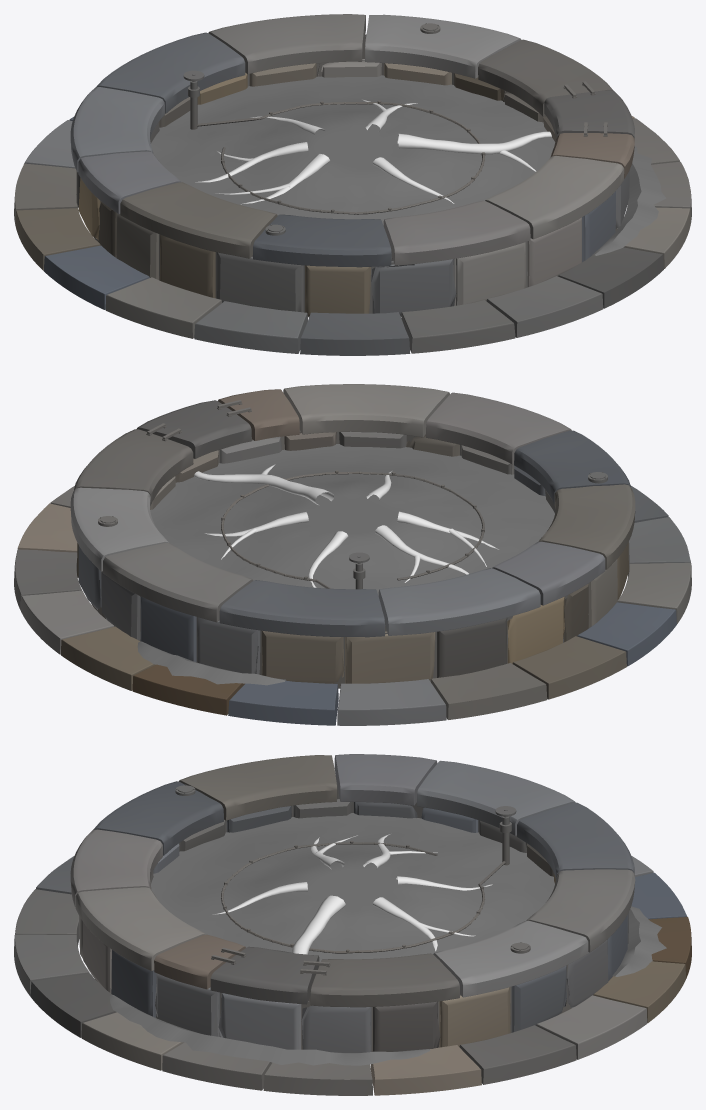
File: TreeBed_Birch4b_LOD0.glb
The picture shows the model from 3 angles, top to bottom: view 1: azimuth 30°, elevation 25°; view 2: azimuth 150°, elevation 25°; view 3: azimuth 270°, elevation 25°; orthographic projection.
Parts seen in each view (by area): view 1: TB_Birch4b_Ring_LOD0, TB_Birch4b_Apron_LOD0, TB_Birch4b_Soil_LOD0, TB_Birch4b_Roots_LOD0, TB_Birch4b_Metal_LOD0, TB_Birch4b_Sand_LOD0; view 2: TB_Birch4b_Ring_LOD0, TB_Birch4b_Apron_LOD0, TB_Birch4b_Soil_LOD0, TB_Birch4b_Roots_LOD0, TB_Birch4b_Metal_LOD0, TB_Birch4b_Sand_LOD0; view 3: TB_Birch4b_Ring_LOD0, TB_Birch4b_Soil_LOD0, TB_Birch4b_Apron_LOD0, TB_Birch4b_Sand_LOD0, TB_Birch4b_Roots_LOD0, TB_Birch4b_Metal_LOD0.
Part boxes in pixels (x1=…): TB_Birch4b_Ring_LOD0: x1=70, y1=14, x2=634, y2=317; TB_Birch4b_Apron_LOD0: x1=14, y1=116, x2=691, y2=355; TB_Birch4b_Soil_LOD0: x1=151, y1=75, x2=555, y2=225; TB_Birch4b_Roots_LOD0: x1=195, y1=99, x2=551, y2=204; TB_Birch4b_Metal_LOD0: x1=183, y1=23, x2=607, y2=235; TB_Birch4b_Sand_LOD0: x1=592, y1=146, x2=666, y2=255; TB_Birch4b_Ring_LOD0: x1=70, y1=384, x2=635, y2=688; TB_Birch4b_Apron_LOD0: x1=14, y1=485, x2=691, y2=725; TB_Birch4b_Soil_LOD0: x1=150, y1=444, x2=554, y2=595; TB_Birch4b_Roots_LOD0: x1=194, y1=464, x2=498, y2=587; TB_Birch4b_Metal_LOD0: x1=98, y1=400, x2=607, y2=589; TB_Birch4b_Sand_LOD0: x1=137, y1=641, x2=285, y2=685; TB_Birch4b_Ring_LOD0: x1=70, y1=754, x2=635, y2=1052; TB_Birch4b_Soil_LOD0: x1=151, y1=813, x2=554, y2=961; TB_Birch4b_Apron_LOD0: x1=14, y1=856, x2=691, y2=1095; TB_Birch4b_Sand_LOD0: x1=109, y1=906, x2=666, y2=1065; TB_Birch4b_Roots_LOD0: x1=212, y1=834, x2=492, y2=954; TB_Birch4b_Metal_LOD0: x1=175, y1=784, x2=530, y2=975.
Size of the model in its own units: 4.44 by 0.7406 by 4.44.
